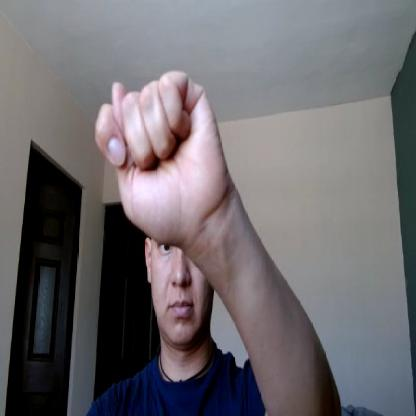T: (92, 68, 224, 244)
